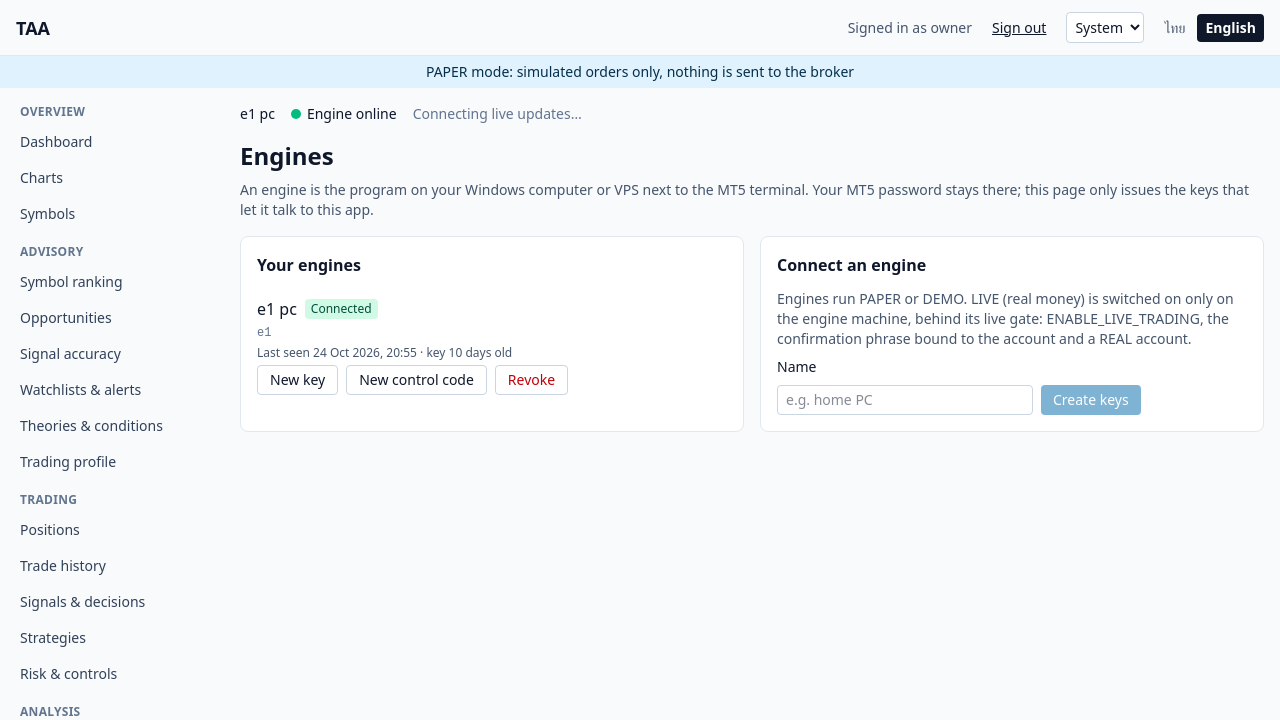
Test: engines page › explains a refused registration
The image size is (1280, 720).
Step 1. Type "second" into the field labelled "Name" → point(905, 400), box [777,385,1033,415]
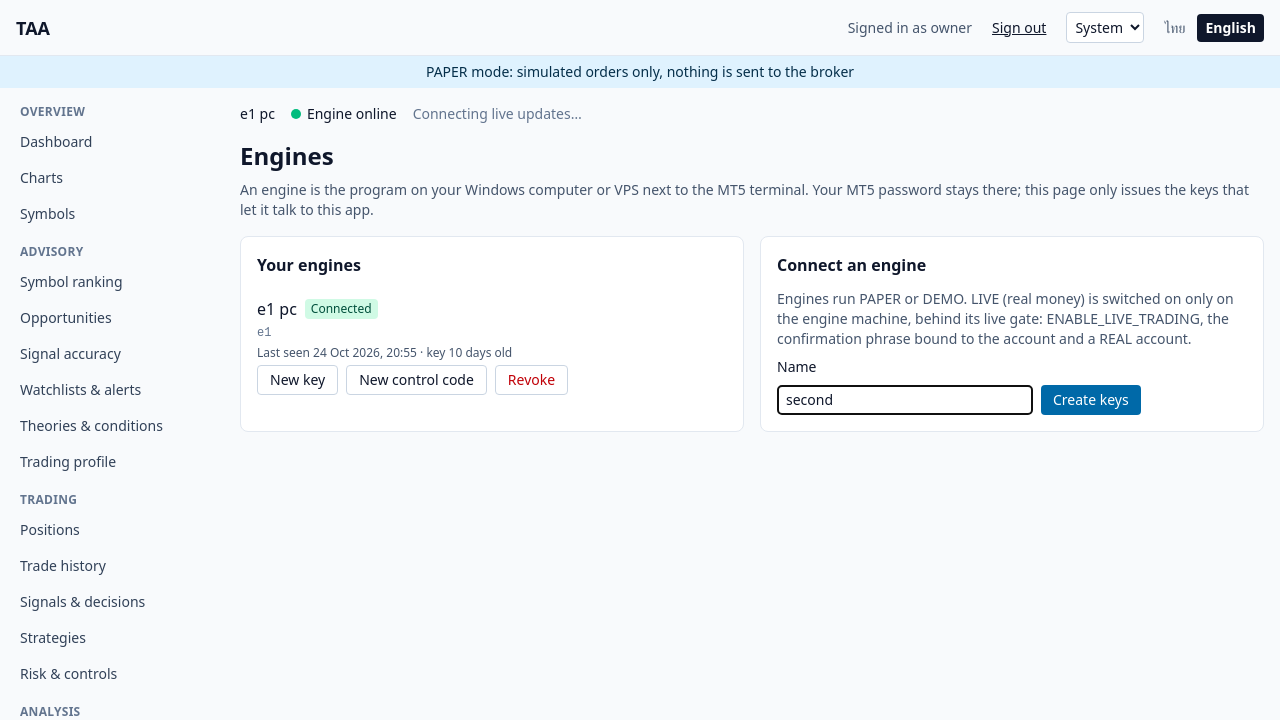
Step 2. Click the button "Create keys" → point(1091, 400), box [1041,385,1141,415]
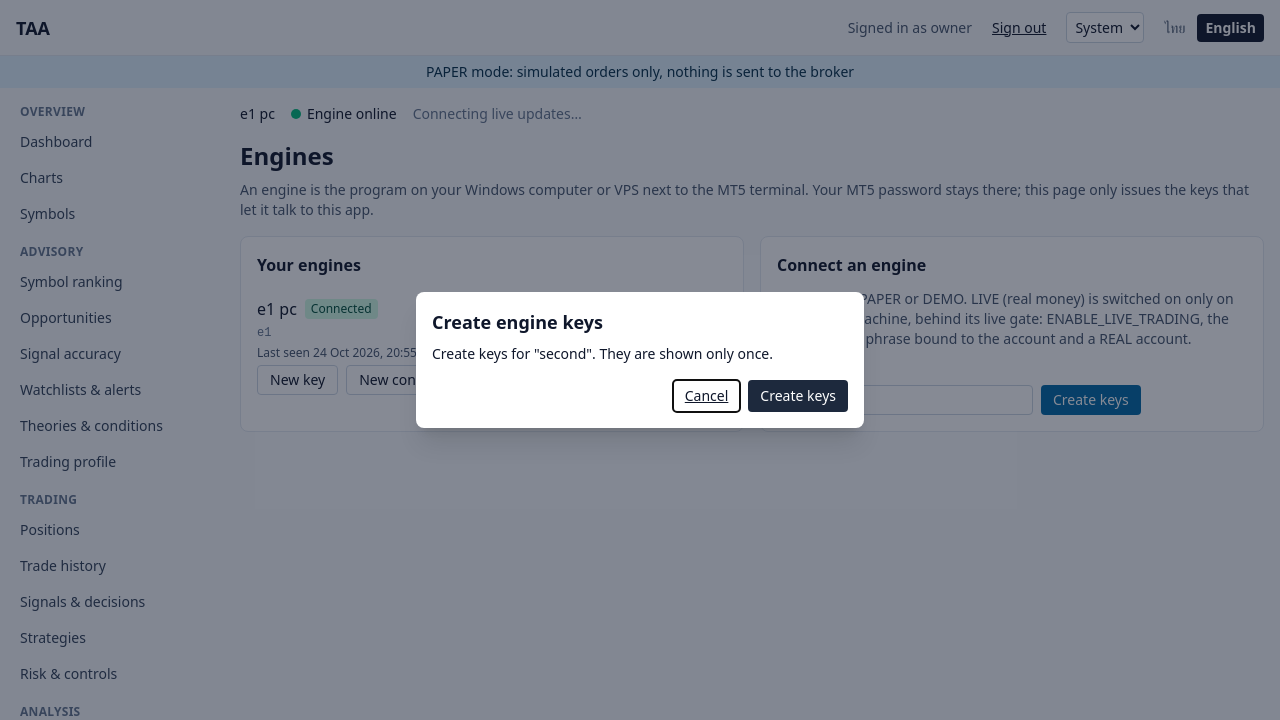
Step 3. Click the button "Create keys" → point(798, 396), box [748,380,848,412]
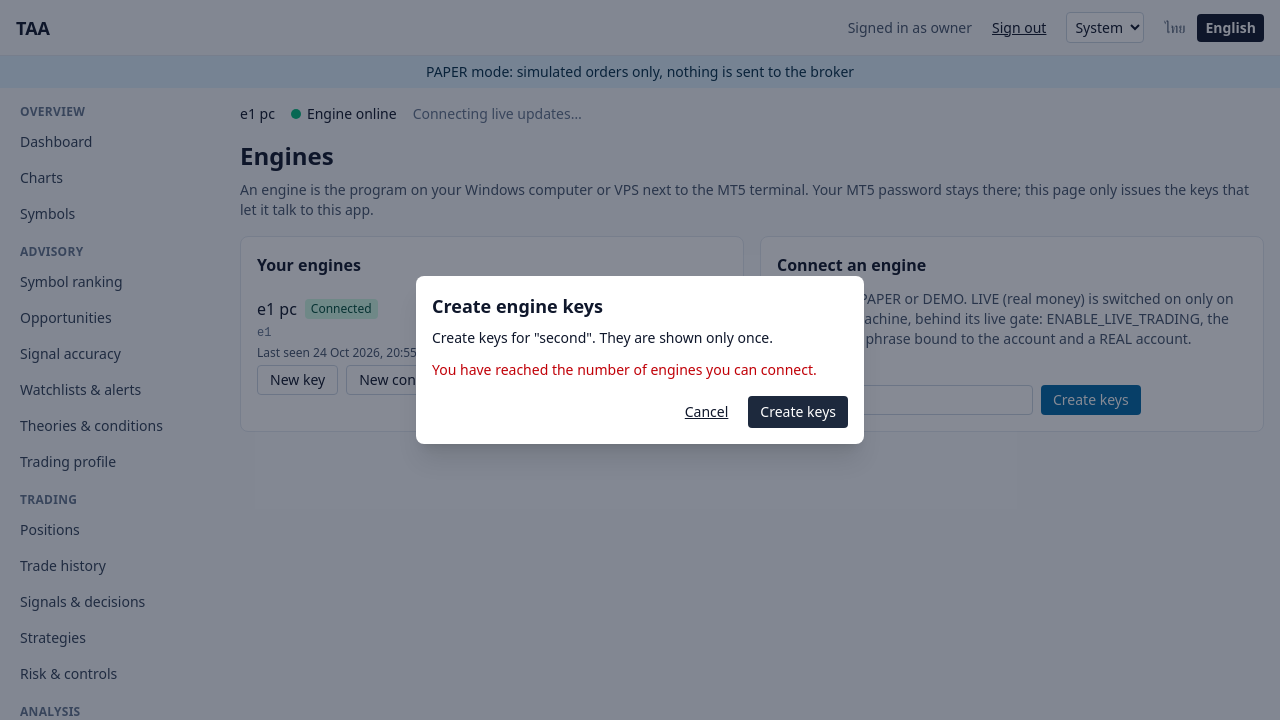
Expected: the message reads "You have reached the number of engines you can connect.", [432,360,817,379]
